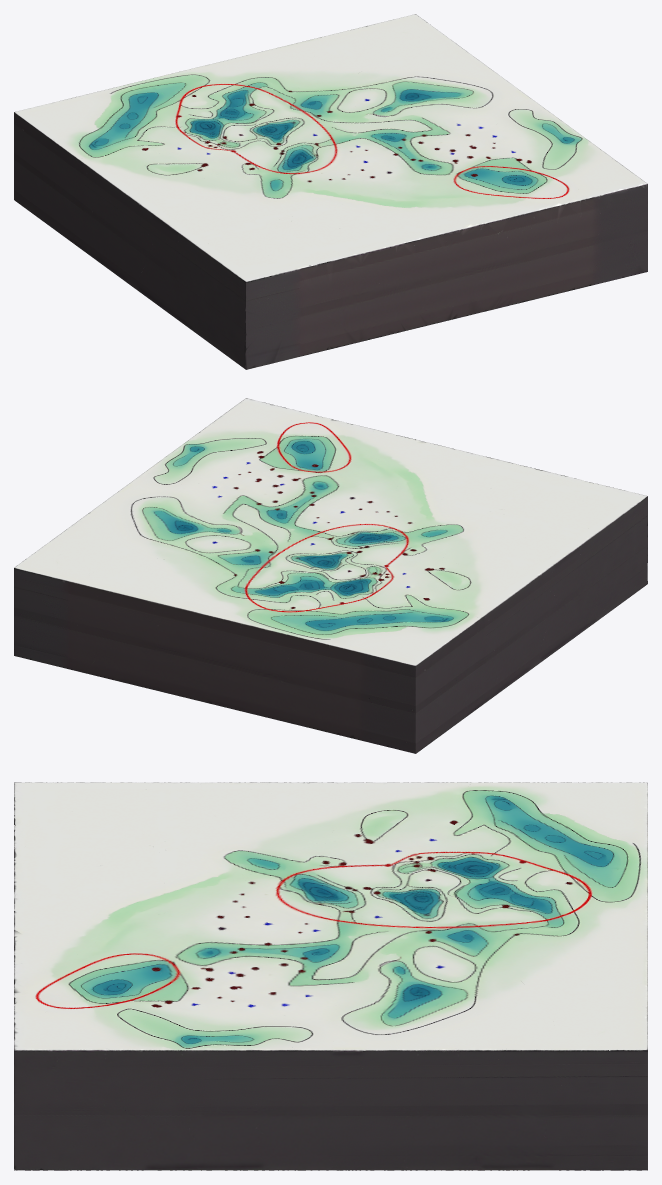
File: пласт_2_стратегия.glb
3 views of the same model, one above another, from view 1: azimuth 30°, elevation 25°; view 2: azimuth 150°, elevation 25°; view 3: azimuth 270°, elevation 25° (orthographic). The views are drawn at different scales.
Bounding box in the file's own units: 1.9 × 0.3979 × 1.9.
Materials: 1 (1 with a texture image).
